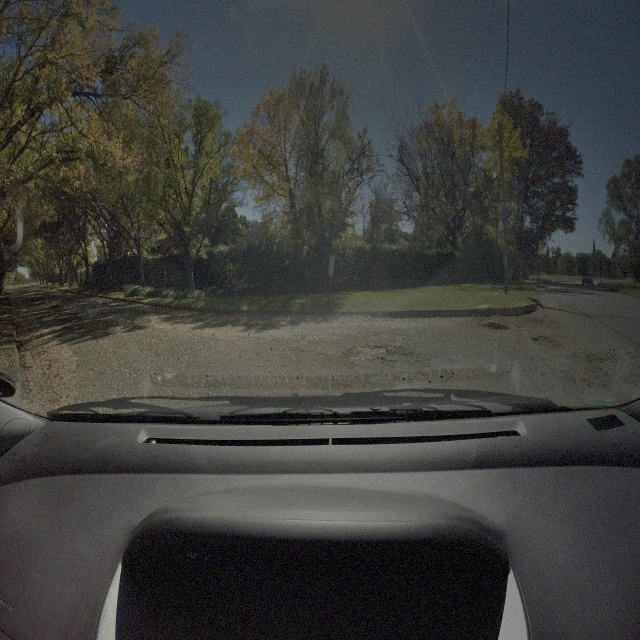pothole: (345, 338, 405, 368), (485, 319, 510, 333), (531, 331, 543, 344)
